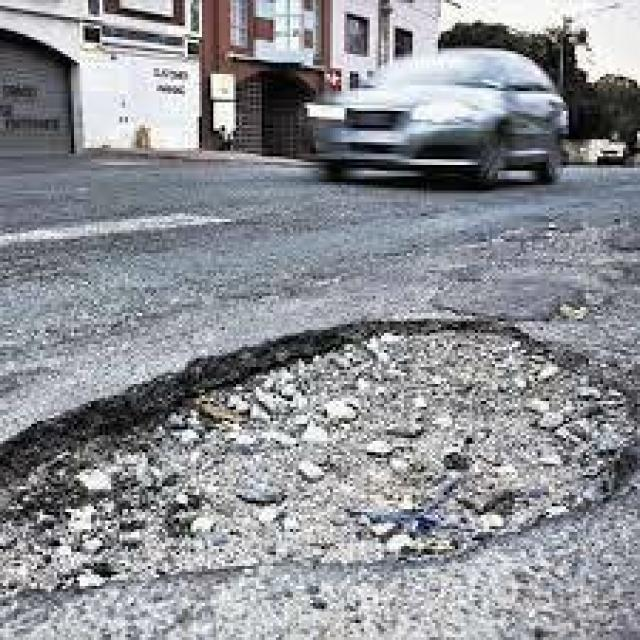Pothole: (3, 264, 640, 598)
